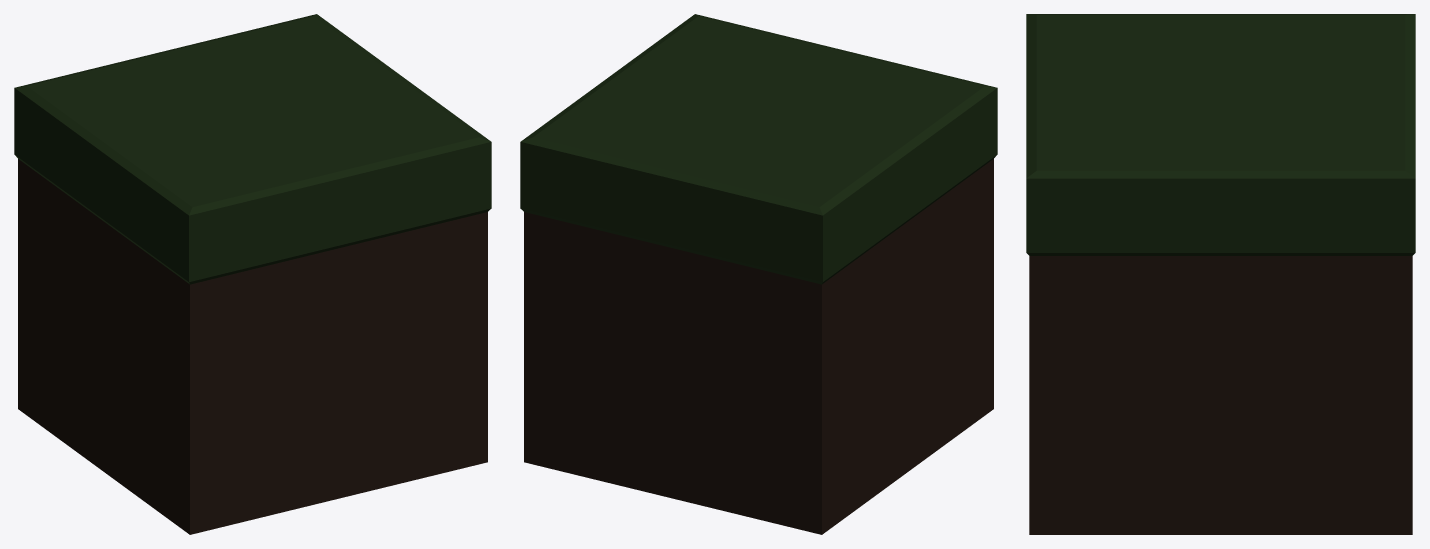
File: grass_001.obj
The picture shows the model from 3 angles, left to right: view 1: azimuth 30°, elevation 25°; view 2: azimuth 150°, elevation 25°; view 3: azimuth 270°, elevation 25°; orthographic projection. The views are drawn at different scales.
Visible parts, largest first — view 1: Cube; view 2: Cube; view 3: Cube.
Part boxes in pixels (x1,y1,x2,y2): Cube: [14, 14, 491, 534]; Cube: [520, 14, 997, 534]; Cube: [1026, 14, 1415, 534].
Size of the model in its own units: 2.03 by 2.08 by 2.03.
